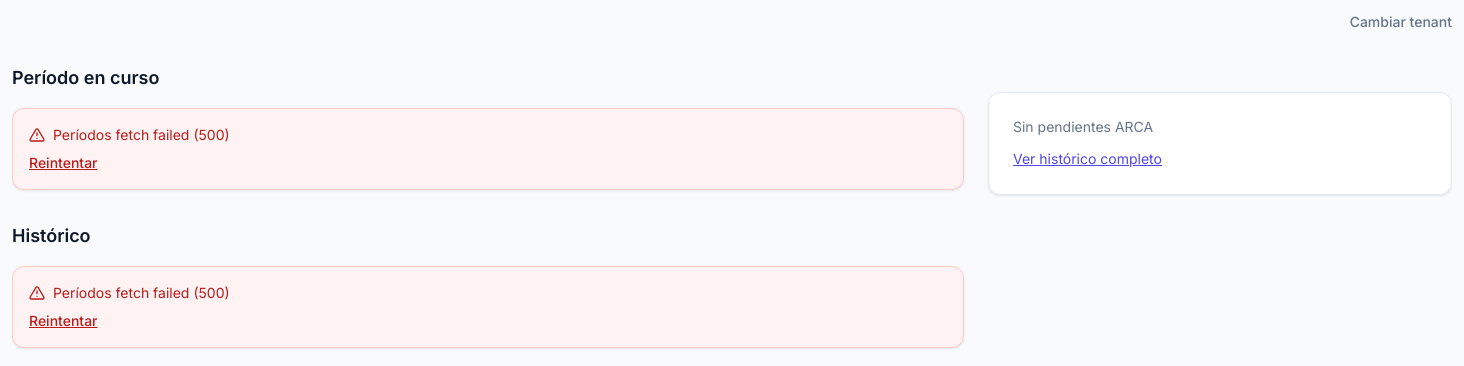
DashboardShell › si listPeriodos falla, A/B muestran error con reintentar y C sigue renderizando su propio fetch (RF-29)
This screenshot has width=1464, height=366.
Expected: the message "Períodos fetch failed (500) Reintentar" below "Período en curso" is shown, [53,126,230,143]
Expected: the 2nd message "Períodos fetch failed (500) Reintentar" is shown, [12,266,964,348]
Click the button "Reintentar" below "Período en curso": (63,163) [29,153,98,173]
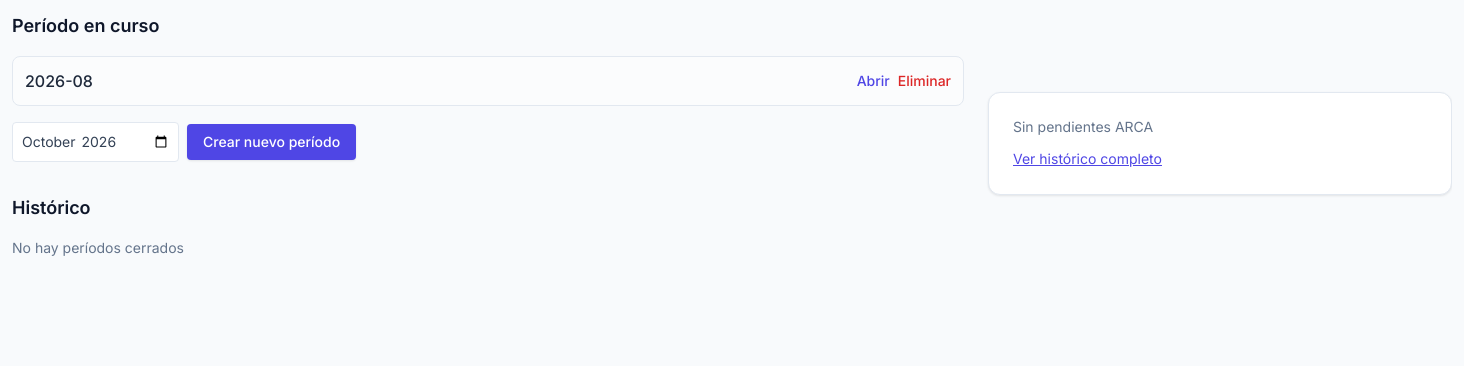
Now the text "2026-08" is shown, box [25,69,93,93]
Now the message "Períodos fetch failed (500) Reintentar" is gone
